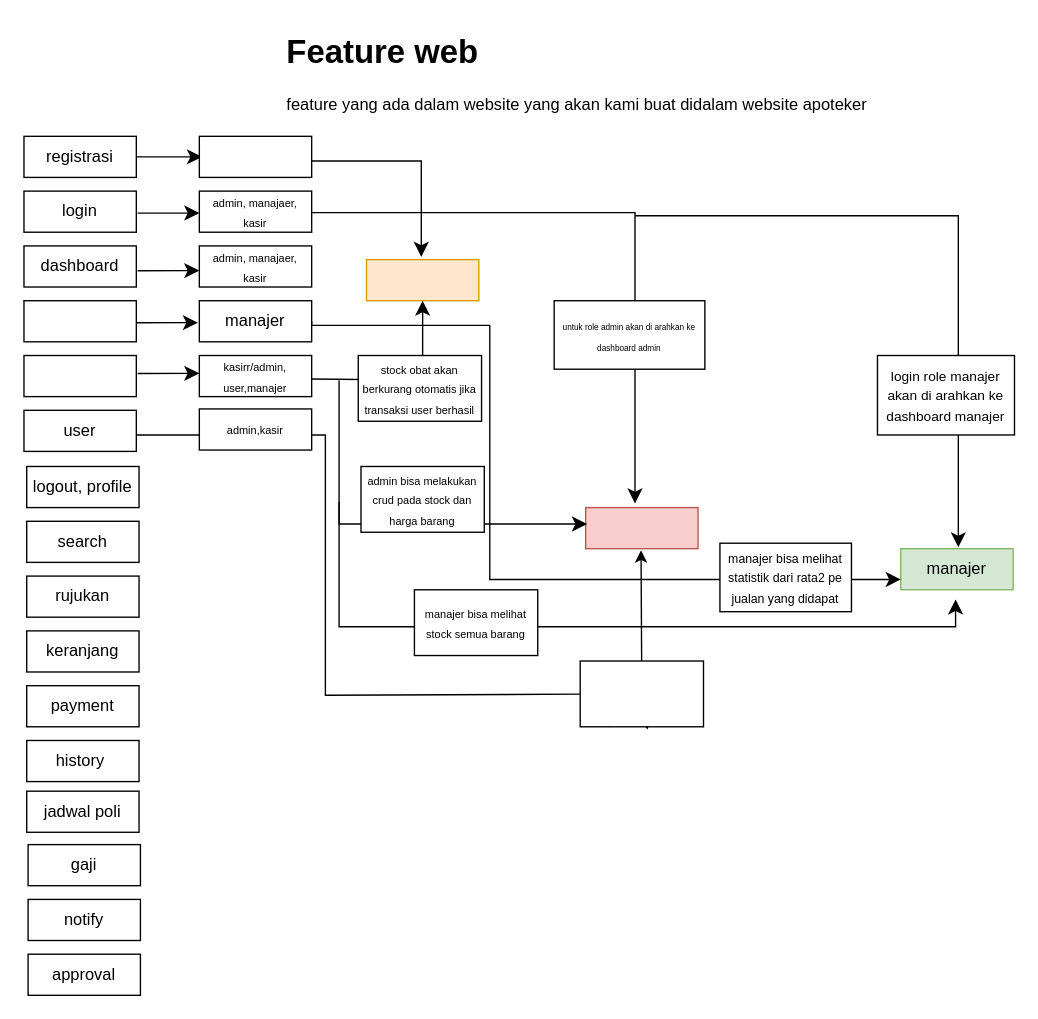
Some shapes in this 1038 by 1019 pixel diagram are drawn without their labels. The centre of each missing label's shape, as x and y in pixels:
"admin bisa melihat pengguna yang aktif" belongs at point 641,693.
"admin/kasir" belongs at point 641,527.
"obat" belongs at point 79,375.
"registerasi data users" belongs at point 255,156.
"statistik" belongs at point 79,320.
"users/client" belongs at point 422,279.
